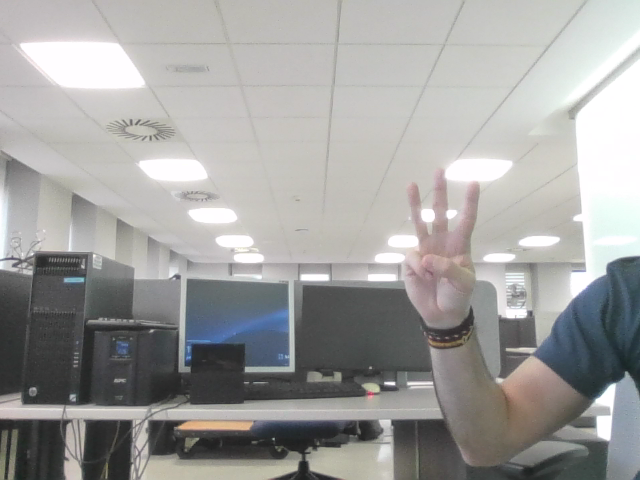3Dedos: (413, 181, 471, 298)
